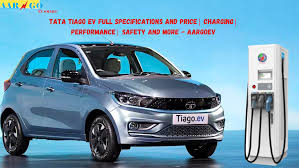Tiago: (2, 42, 226, 161)
